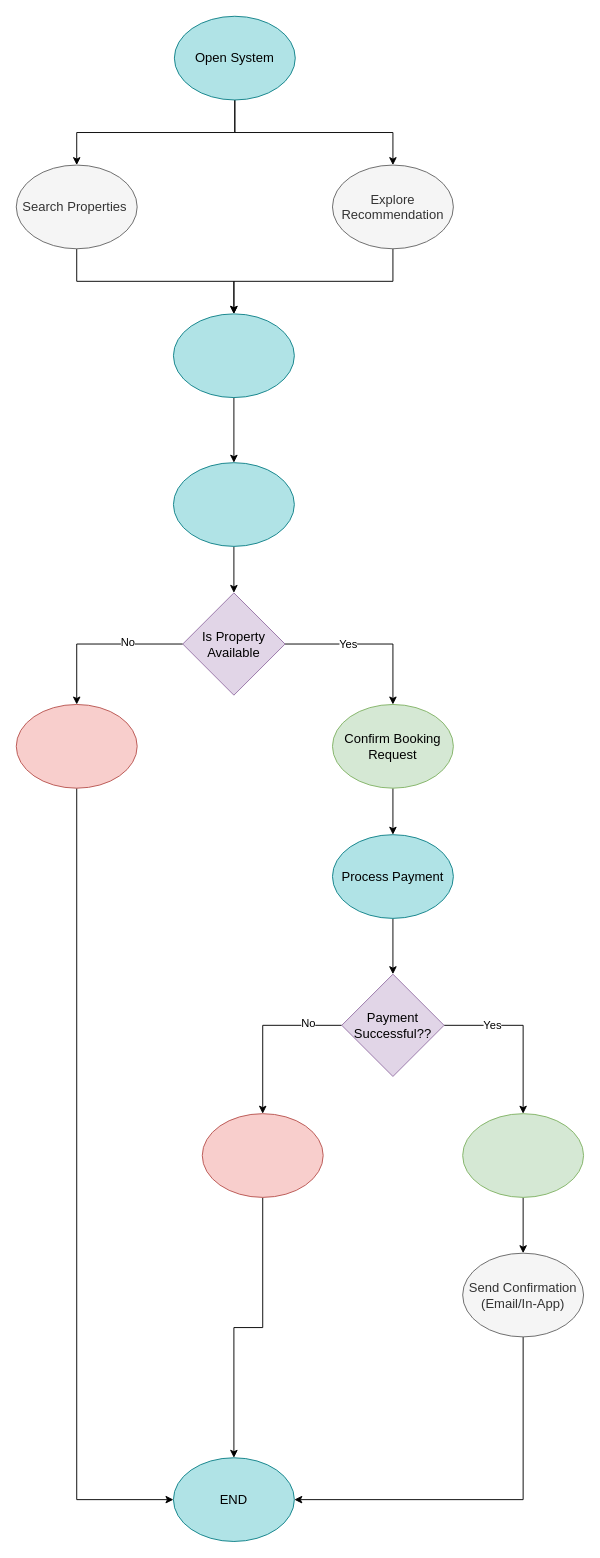
Some shapes in this 600 by 1558 pixel diagram are drawn without their labels. Here are the shapes that lost their labels. From the top down, the centre of each, then its label:
At point (233, 355): "Select a Property".
At point (233, 504): "Check Availability for Dates".
At point (76, 746): "Notify User of Unavailability".
At point (262, 1155): "Notify User of Payment Failure".
At point (523, 1155): "Update Booking Database".
